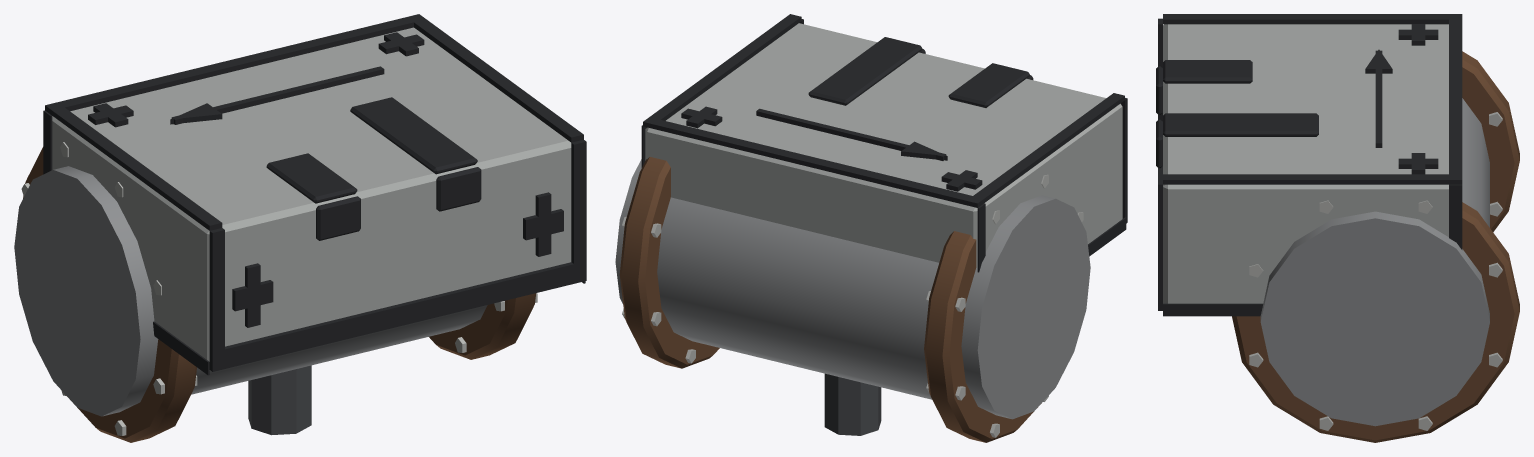
File: overflow-valve-west.glb
The picture shows the model from 3 angles, left to right: view 1: azimuth 30°, elevation 25°; view 2: azimuth 150°, elevation 25°; view 3: azimuth 270°, elevation 25°; orthographic projection. The views are drawn at different scales.
Visible parts, largest first — view 1: body; view 2: body; view 3: body.
Part boxes in pixels (box(x1,y1,x2,y2)): body: box(14, 14, 586, 442); body: box(615, 14, 1127, 442); body: box(1156, 14, 1519, 442).
Bounding box in the file's own units: 1 × 0.776 × 0.856.
